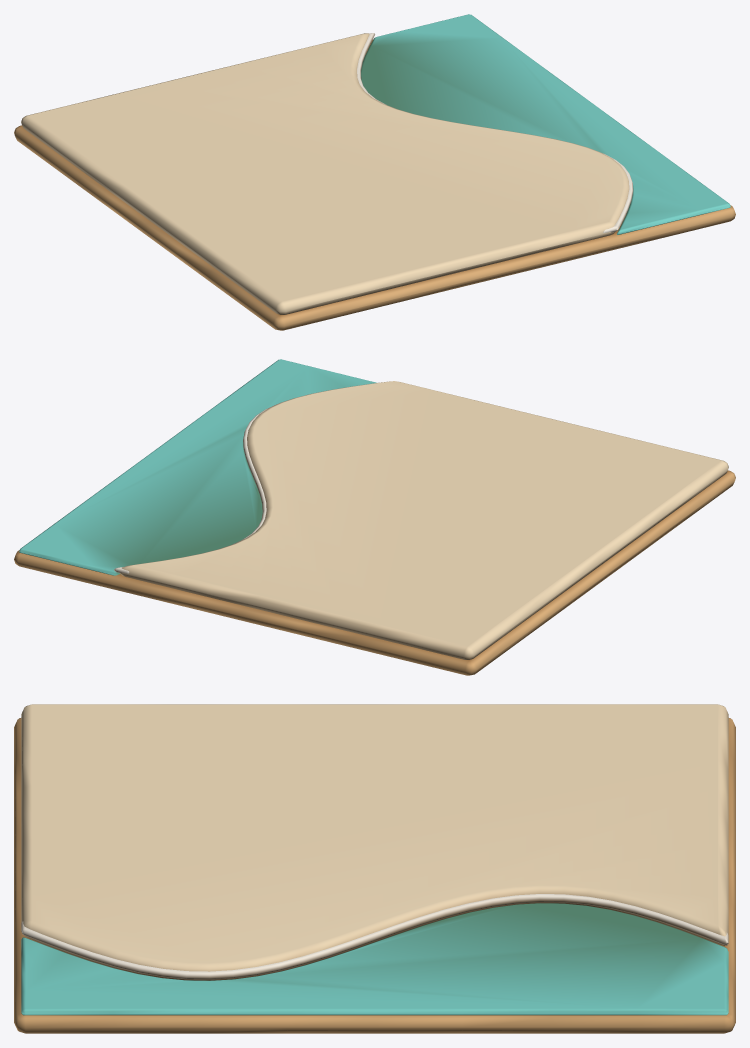
The model's file is tile_coast_curve_a.glb.
3 renders of one model, top to bottom at view 1: azimuth 30°, elevation 25°; view 2: azimuth 150°, elevation 25°; view 3: azimuth 270°, elevation 25°, orthographic. The views are drawn at different scales.
Parts seen in each view (by area): view 1: sand_top, water, base, foam; view 2: sand_top, water, base, foam; view 3: sand_top, water, base, foam.
Part boxes in pixels (x1,y1,x2,y2): sand_top: (21, 33, 629, 314); water: (361, 14, 730, 234); base: (14, 40, 735, 330); foam: (357, 33, 633, 232); sand_top: (120, 381, 728, 659); water: (19, 359, 376, 575); base: (14, 470, 735, 675); foam: (114, 404, 277, 573); sand_top: (21, 704, 728, 980); water: (21, 903, 728, 1015); base: (14, 718, 735, 1033); foam: (21, 894, 728, 979).
Bounding box in the file's own units: 4 × 0.22 × 4.
